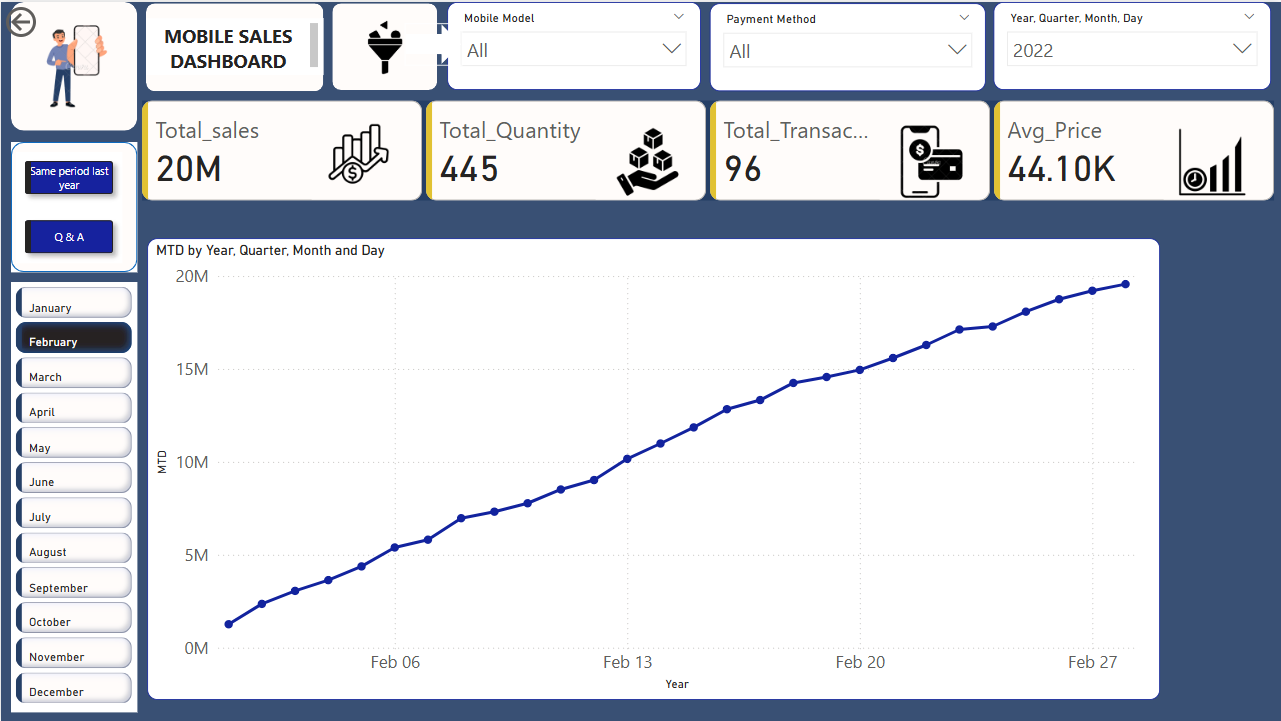

The page's visual inventory and layout, read from the dashboard file:
{"tool":"powerbi","page":{"name":"MTD Report","canvas":[1280,720],"ordinal":1},"visuals":[{"type":"shape","box":[10,0,126.2,128.8],"z":0},{"type":"image","box":[15,6.2,121.2,112.5],"z":1000},{"type":"shape","box":[10,140,126.2,130],"z":2000},{"type":"cardVisual","fields":{"Data":["Mobile_Sales_Data.Total_sales","Mobile_Sales_Data.Total_Quantity","Mobile_Sales_Data.Total_Transactions","Mobile_Sales_Data.Avg_Price"]},"box":[136.3,94.1,1143.7,111],"z":3000},{"type":"slicer","fields":{"Values":["Mobile_Sales_Data.Mobile Model"]},"box":[446.4,0,253.4,88.1],"z":4000},{"type":"slicer","fields":{"Values":["Custom_Calendar.Date.Variation.Date Hierarchy.Year","Custom_Calendar.Date.Variation.Date Hierarchy.Quarter","Custom_Calendar.Date.Variation.Date Hierarchy.Month","Custom_Calendar.Date.Variation.Date Hierarchy.Day"]},"box":[992.9,0,277.5,88.1],"z":5000},{"type":"slicer","fields":{"Values":["Mobile_Sales_Data.Payment Method"]},"box":[708.2,1.2,276.3,88.1],"z":6000},{"type":"shape","box":[331.8,1.2,105,86.9],"z":7000},{"type":"image","box":[341.4,4.8,86.9,79.6],"z":8000},{"type":"shape","box":[404.2,21.7,57.9,42.2],"z":9000},{"type":"shape","box":[144.8,1.2,177.3,88.1],"z":10000},{"type":"textbox","box":[144.8,15.7,177.3,56.7],"z":11000},{"type":"actionButton","box":[0,0,100,40],"z":12000},{"type":"lineChart","fields":{"Y":["Mobile_Sales_Data.MTD"],"Category":["Custom_Calendar.Date.Variation.Date Hierarchy.Year","Custom_Calendar.Date.Variation.Date Hierarchy.Quarter","Custom_Calendar.Date.Variation.Date Hierarchy.Month","Custom_Calendar.Date.Variation.Date Hierarchy.Day"]},"box":[146.2,236.2,1012.5,461.2],"z":13000},{"type":"advancedSlicerVisual","fields":{"Values":["Custom_Calendar.Date.Variation.Date Hierarchy.Month"]},"box":[10,280,126.2,430],"z":14000},{"type":"pageNavigator","box":[15,150,106.2,111.2],"z":14001}]}

Visuals, with their boxes in screenshot pixels (x1, y1, x2, y2), scaled from the page's 1280x720 canvas onto the 1281x721 screenshot:
shape: 10, 0, 136, 129
image: 15, 6, 136, 119
shape: 10, 140, 136, 270
cardVisual - Mobile_Sales_Data.Total_sales x Mobile_Sales_Data.Total_Quantity: 136, 94, 1280, 205
slicer - Mobile_Sales_Data.Mobile Model: 447, 0, 700, 88
slicer - Custom_Calendar.Date.Variation.Date Hierarchy.Year x Custom_Calendar.Date.Variation.Date Hierarchy.Quarter: 994, 0, 1271, 88
slicer - Mobile_Sales_Data.Payment Method: 709, 1, 985, 89
shape: 332, 1, 437, 88
image: 342, 5, 429, 85
shape: 405, 22, 462, 64
shape: 145, 1, 322, 89
textbox: 145, 16, 322, 73
actionButton: 0, 0, 100, 40
lineChart - Mobile_Sales_Data.MTD x Custom_Calendar.Date.Variation.Date Hierarchy.Year: 146, 237, 1160, 698
advancedSlicerVisual - Custom_Calendar.Date.Variation.Date Hierarchy.Month: 10, 280, 136, 711
pageNavigator: 15, 150, 121, 262
